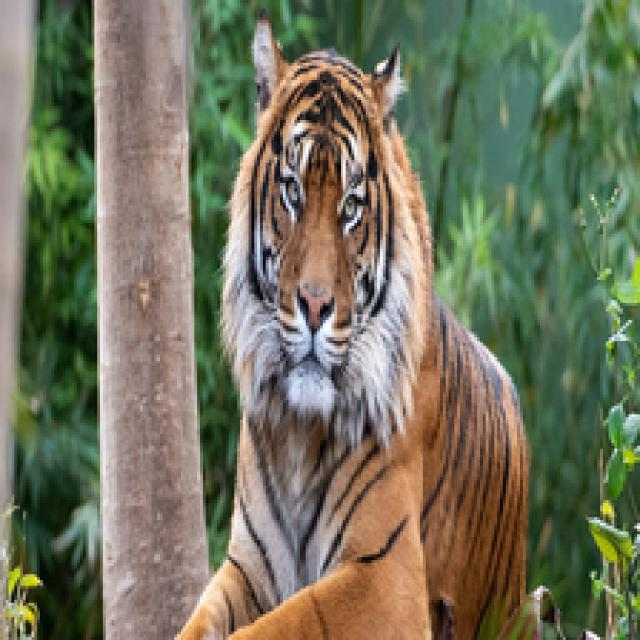tiger: (170, 43, 531, 640)
